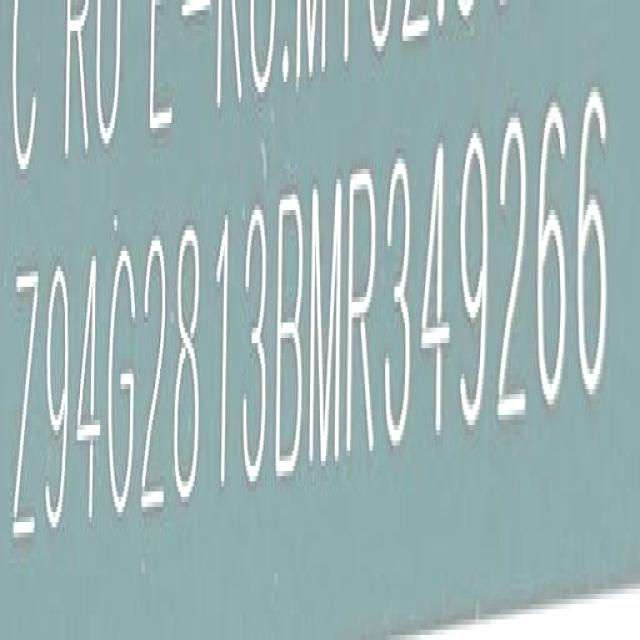1: (213, 212, 232, 498)
2: (499, 114, 533, 427), (142, 242, 170, 521)
3: (388, 147, 415, 456), (242, 199, 268, 490)
4: (422, 135, 454, 447), (77, 255, 102, 536)
6: (577, 84, 609, 402), (536, 99, 568, 400)
8: (175, 222, 205, 506)
9: (461, 130, 491, 437), (47, 264, 72, 544)
B: (279, 185, 306, 484)
G: (104, 245, 137, 518)
M: (310, 171, 344, 473)
R: (344, 156, 380, 462)
Z: (15, 267, 41, 553)
